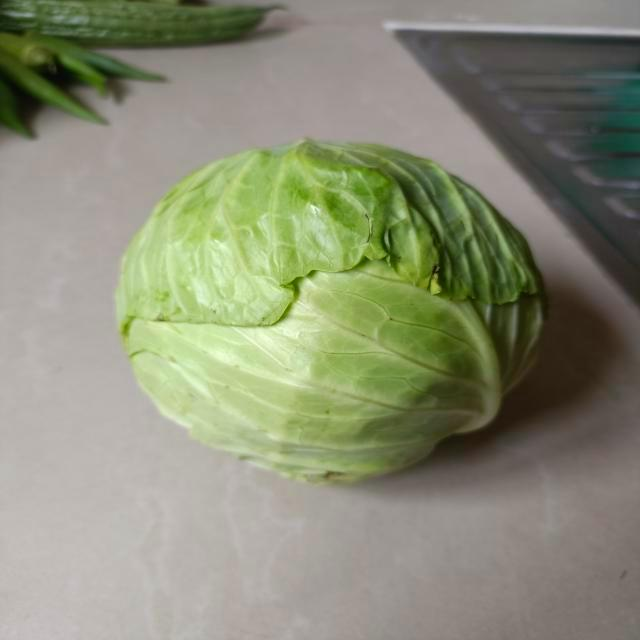cabbage: (120, 138, 552, 488)
